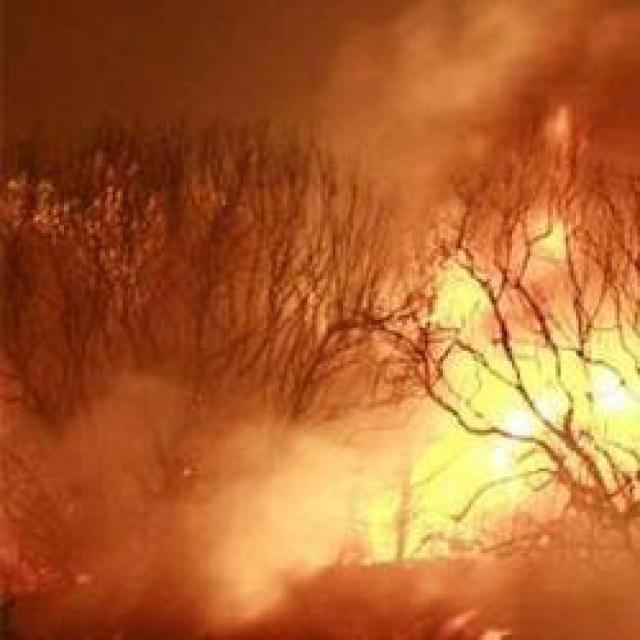Fire: (482, 376, 633, 470)
